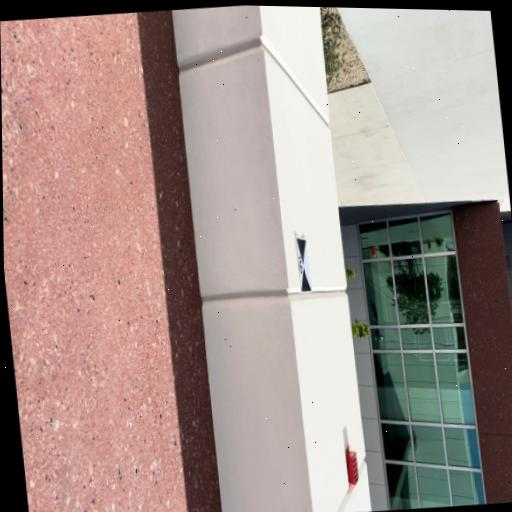target9: (296, 237, 313, 293)
